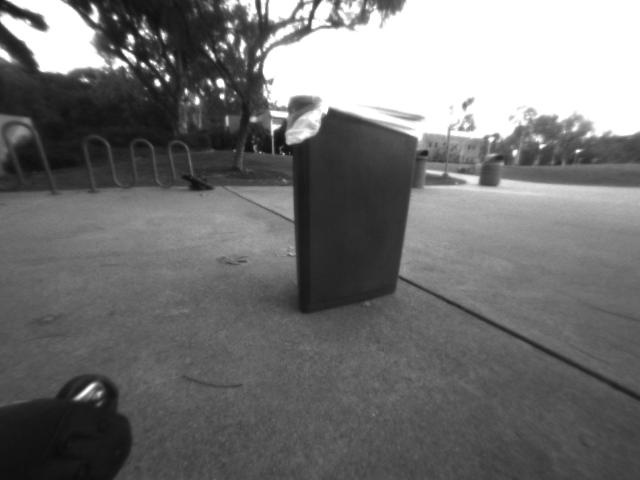trashcan: (278, 90, 433, 326)
